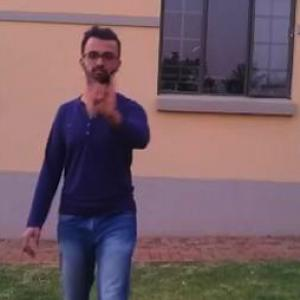takeoff-hand: (86, 64, 126, 117)
